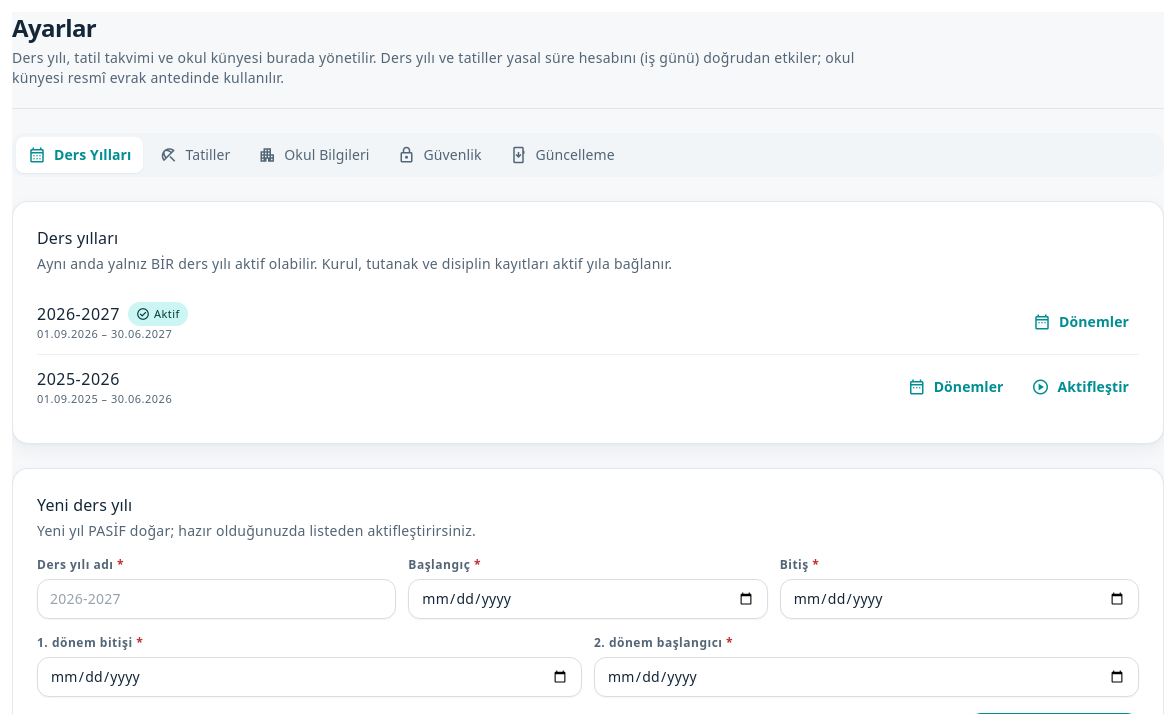
AyarlarPage — tatiller › aktif yılın tatillerini rozetleriyle listeler, yıl dışındakini gizler
The width and height of the screenshot is (1164, 714).
Expected: the text "2026-2027" is shown, [37,303,120,325]
Click the tab "Tatiller" at point(195, 155), box [147,137,242,173]
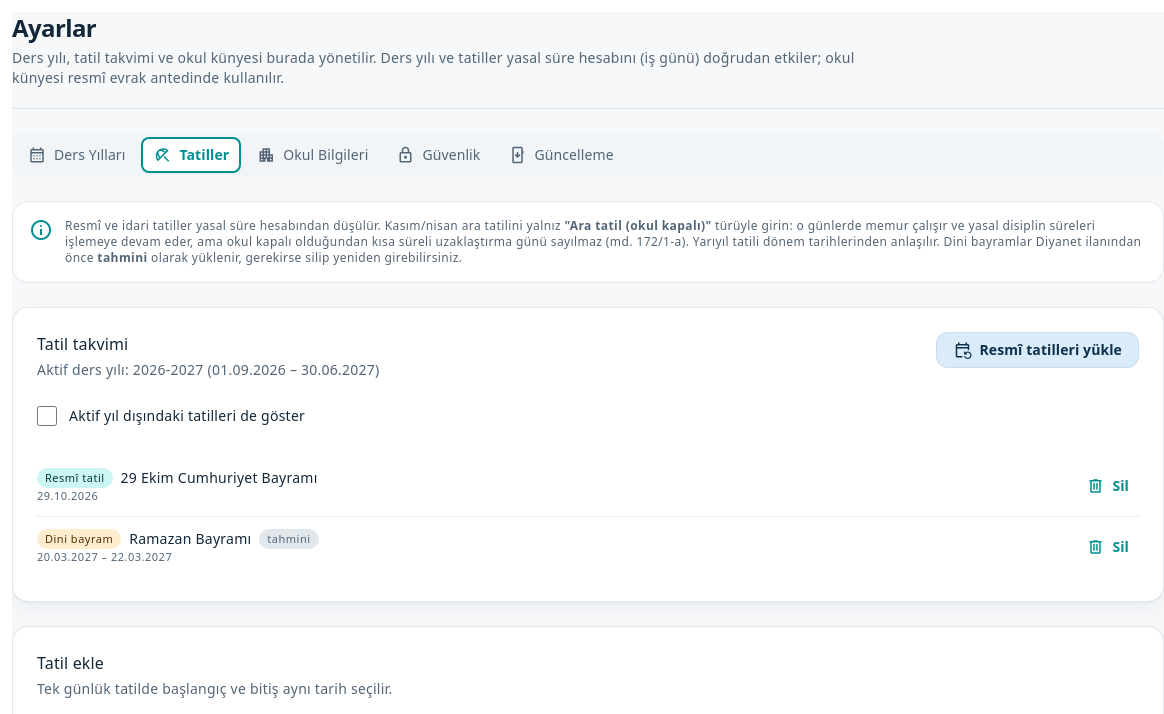
Expected: the text "29 Ekim Cumhuriyet Bayramı" is shown, [121,468,318,487]
Expected: the list item "Ramazan Bayramı" is shown, [129,529,251,548]
Expected: the text "tahmini" next to "Ramazan Bayramı" is shown, [267,531,310,546]
Note: Süzgeç kapatılınca yıl dışındaki kayıt da görünür.
Click the checkbox labelled "Aktif yıl dışındaki tatilleri de göster" at point(47, 416), box [37,406,57,426]
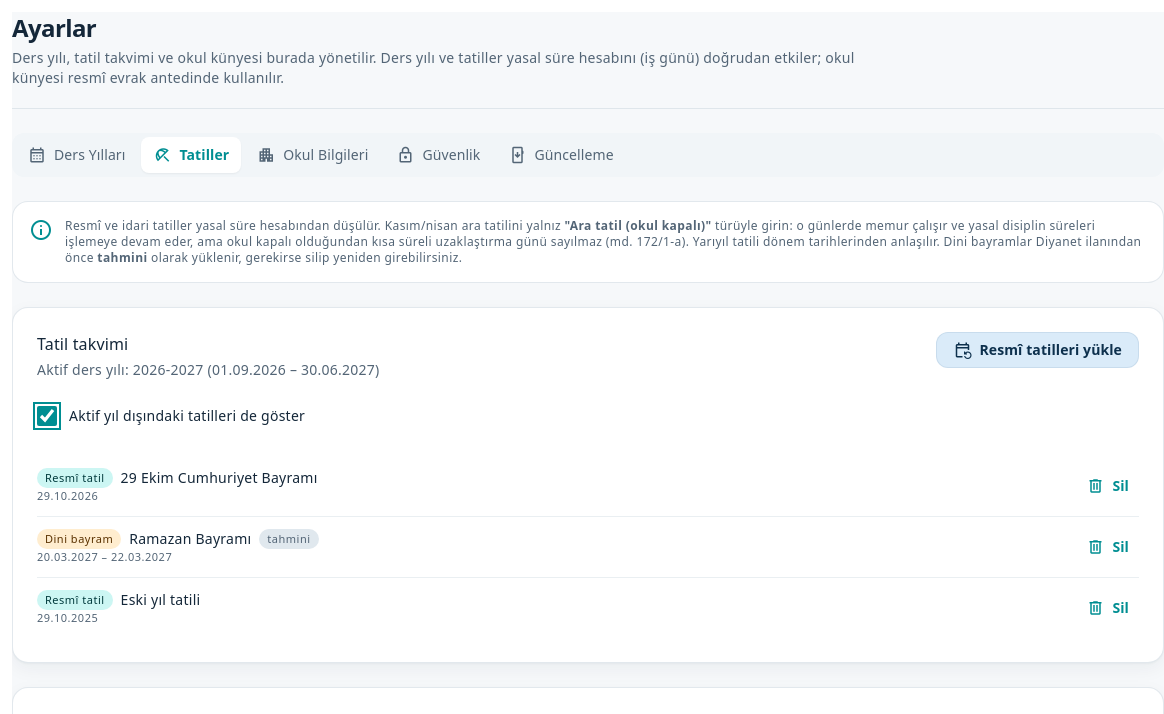
Expected: the text "Eski yıl tatili" is shown, [121,590,200,609]
